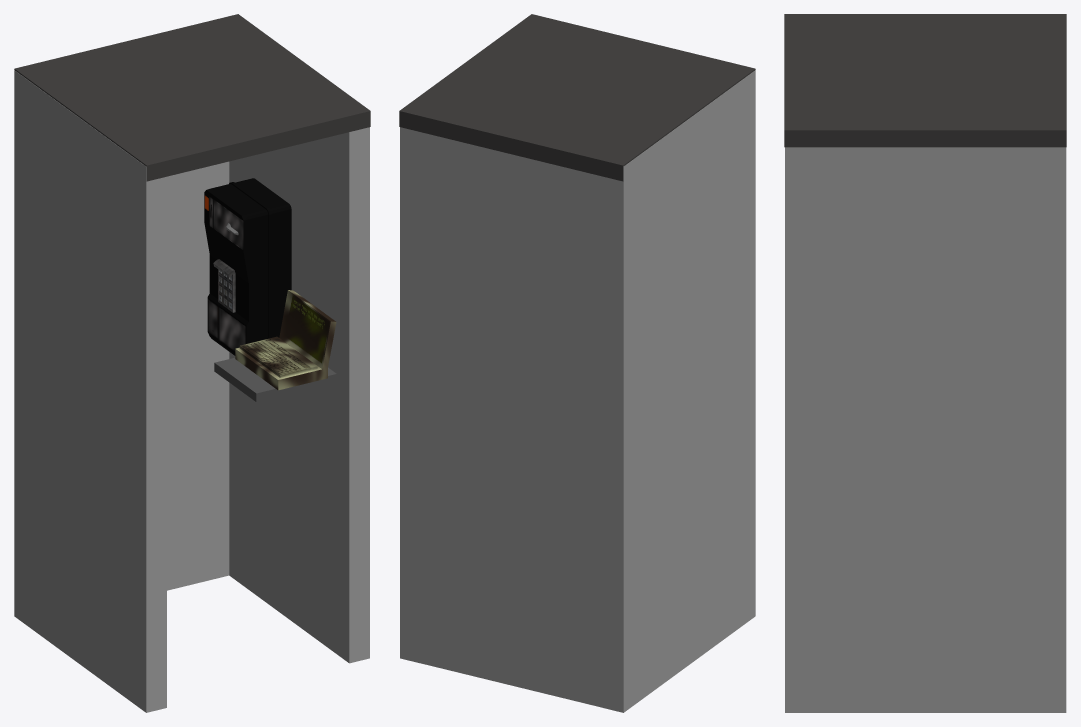
The model's file is phoneBooth.fbx.
3 renders of one model, left to right at view 1: azimuth 30°, elevation 25°; view 2: azimuth 150°, elevation 25°; view 3: azimuth 270°, elevation 25°, orthographic. The views are drawn at different scales.
Visible parts, largest first — view 1: polySurface8, polySurface3, polySurface7, polySurface6, polySurface5, polySurface1, polySurface2; view 2: polySurface6, polySurface8, polySurface7, polySurface3; view 3: polySurface3, polySurface7.
Part boxes in pixels (<box>): polySurface8: <box>14,70,166,712</box>; polySurface3: <box>229,127,369,663</box>; polySurface7: <box>14,14,370,181</box>; polySurface6: <box>167,161,229,590</box>; polySurface5: <box>204,178,291,355</box>; polySurface1: <box>235,290,336,390</box>; polySurface2: <box>214,357,336,402</box>; polySurface6: <box>420,132,602,707</box>; polySurface8: <box>603,70,755,712</box>; polySurface7: <box>399,14,755,181</box>; polySurface3: <box>400,127,420,663</box>; polySurface3: <box>785,147,1066,712</box>; polySurface7: <box>784,14,1066,147</box>.
Bounding box in the file's own units: 101 × 237 × 104.
6 materials, 3 textured.
